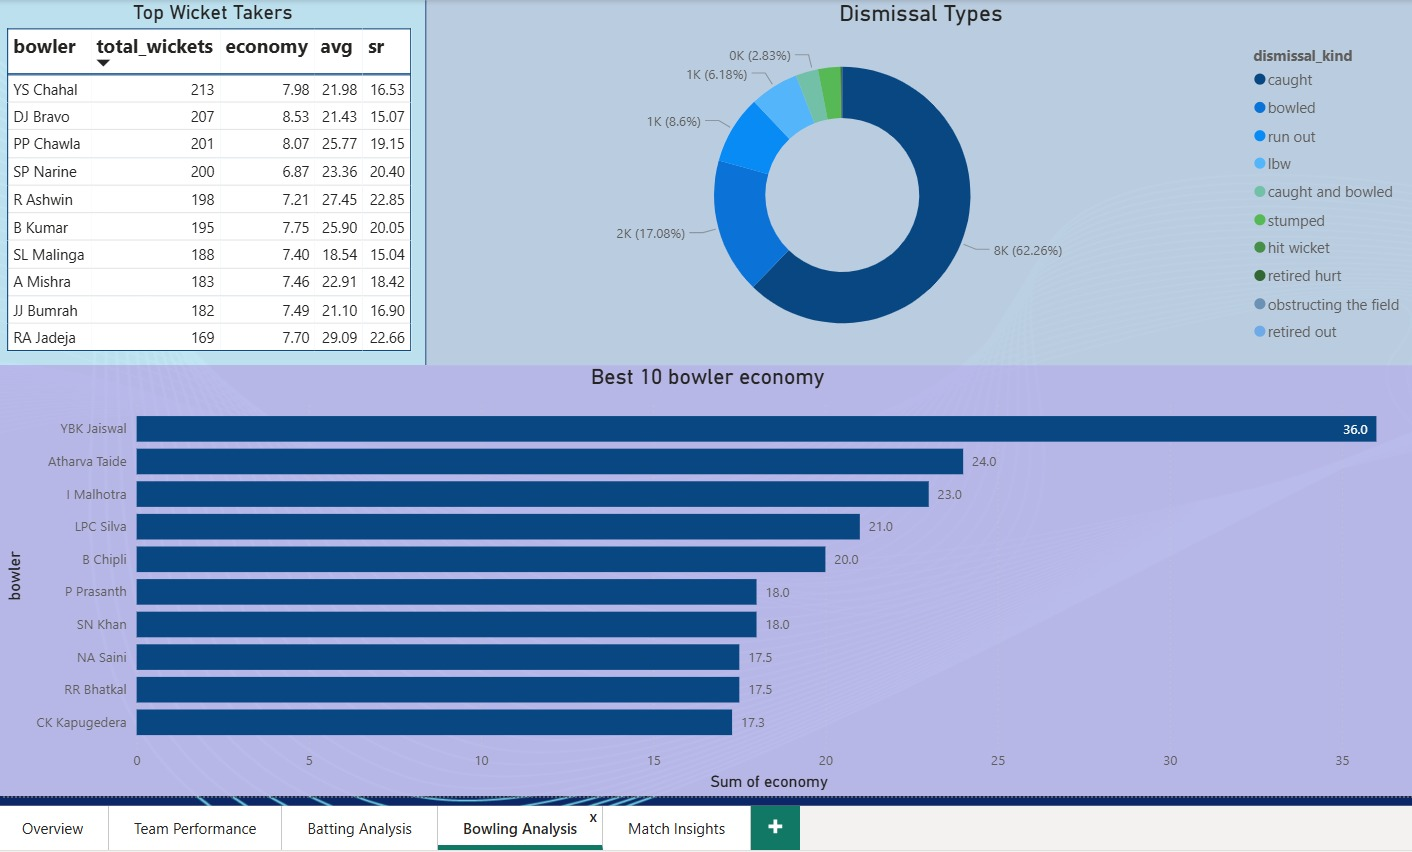

The dashboard page shown, as its layout file describes it:
{"tool":"powerbi","page":{"name":"Bowling Analysis","canvas":[1280,720],"ordinal":3},"visuals":[{"type":"tableEx","title":"Top Wicket Takers","fields":{"Values":["bowling_career.bowler","bowling_career.total_wickets","bowling_career.economy","bowling_career.avg","bowling_career.sr"]},"box":[0,0,385,330],"z":0},{"type":"barChart","title":"Best 10 bowler economy","fields":{"Category":["bowling_career.bowler"],"Y":["Sum(bowling_career.economy)"]},"box":[0,330,1280,390],"z":1000},{"type":"donutChart","title":"Dismissal Types","fields":{"Category":["dismissal_types.dismissal_kind"],"Y":["Sum(dismissal_types.count)"]},"box":[385,0,895,330],"z":2000}]}

Visuals, with their boxes on the page's 1280x720 design canvas (x1, y1, x2, y2). These are canvas units, not pixel positions in the 1412x852 screenshot, which may show the page scaled, cropped or inside an application window:
"Top Wicket Takers" tableEx: <box>0,0,385,330</box>
"Best 10 bowler economy" barChart: <box>0,330,1280,720</box>
"Dismissal Types" donutChart: <box>385,0,1280,330</box>
